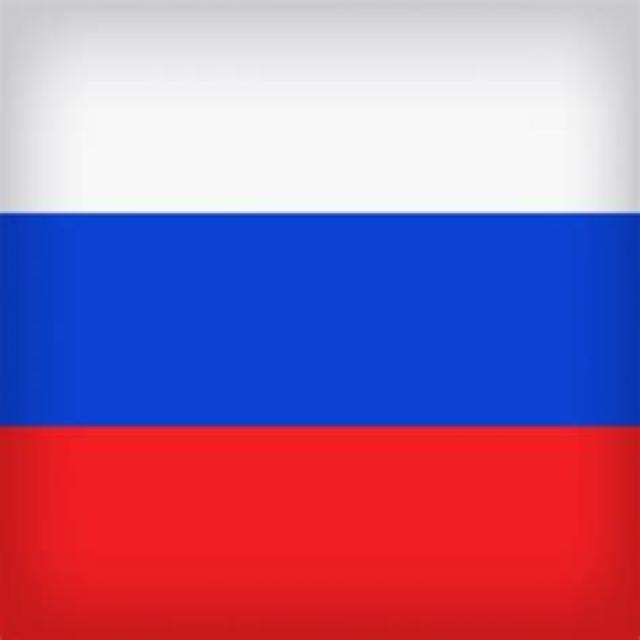russia: (8, 9, 633, 604)
